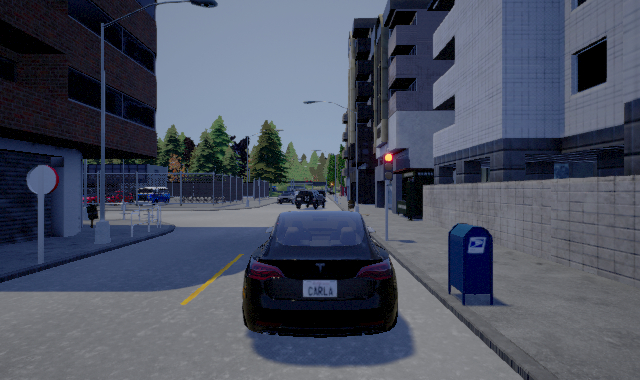traffic_light: (383, 153, 394, 181)
vehicle: (242, 211, 398, 338), (136, 187, 172, 206), (293, 189, 326, 209), (276, 190, 295, 204)
